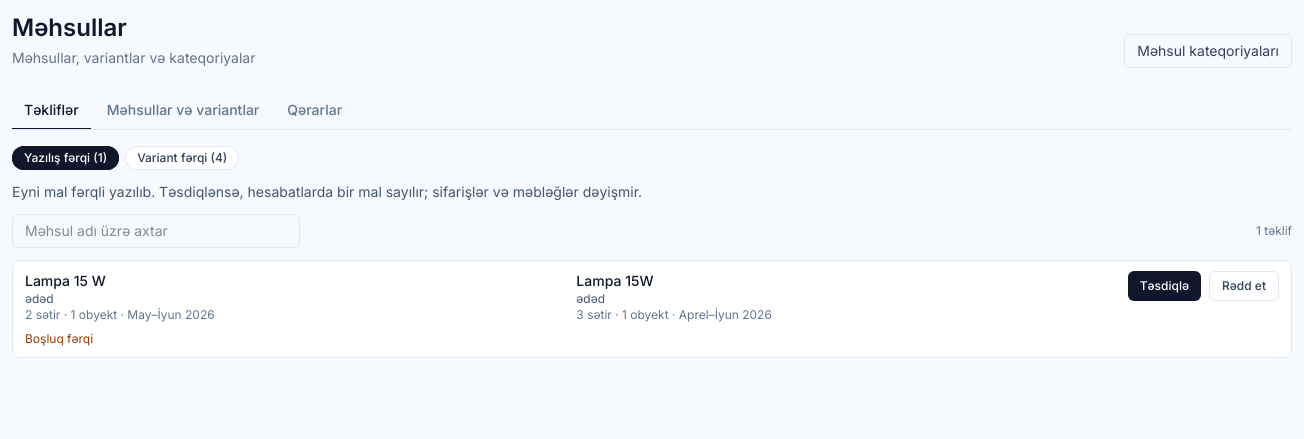
Test case: an administrator › rejects at once, and is offered "Geri al" straight away
The image size is (1304, 439).
Expected: the tab "Təkliflər" is shown, x1=12 y1=92 x2=91 y2=130
Click the button "Rədd et": (1244, 286) x1=1209 y1=271 x2=1279 y2=301
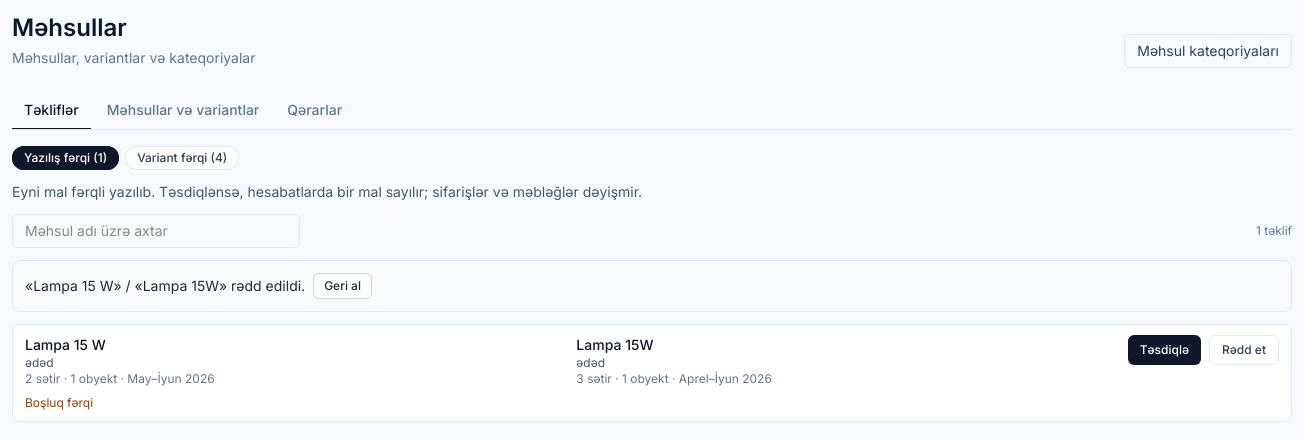
Now the message shows "«Lampa 15 W» / «Lampa 15W» rədd edildi.", box x1=25 y1=277 x2=305 y2=294
Click the button "Geri al": (342, 286) x1=313 y1=273 x2=372 y2=299
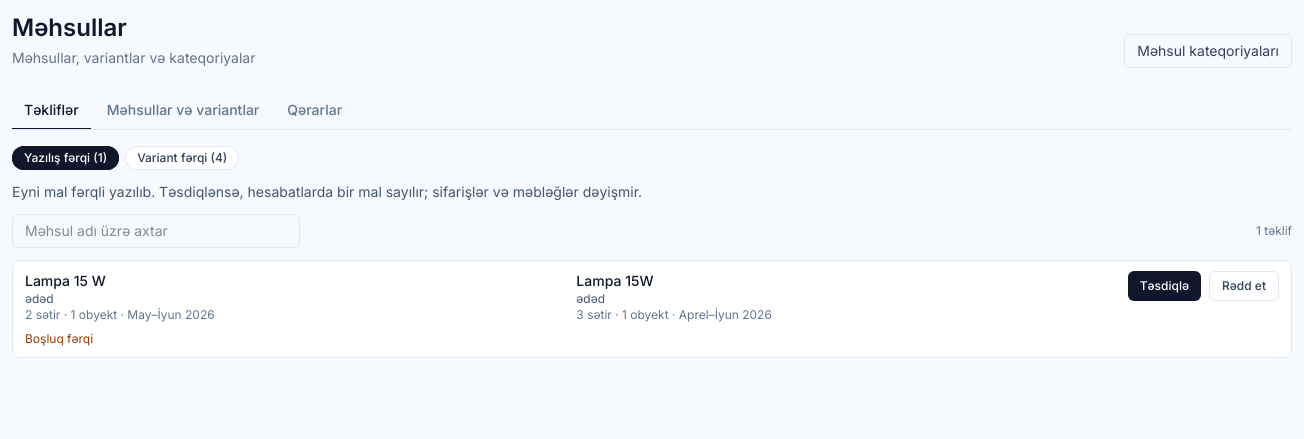
Now the message "«Lampa 15 W» / «Lampa 15W» rədd edildi. Geri al" is gone
